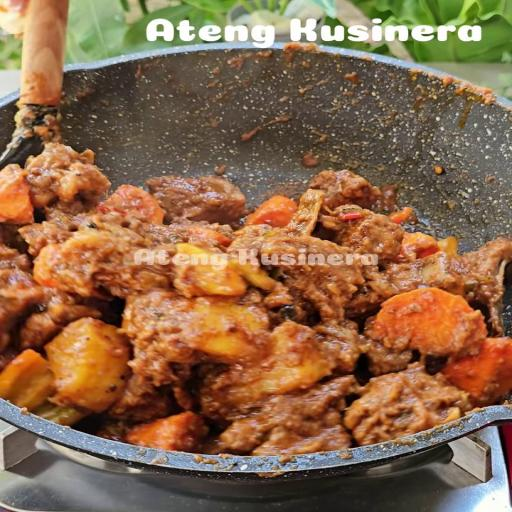pork caldereta: (0, 269, 511, 442)
